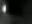person: (3, 4, 8, 15)
